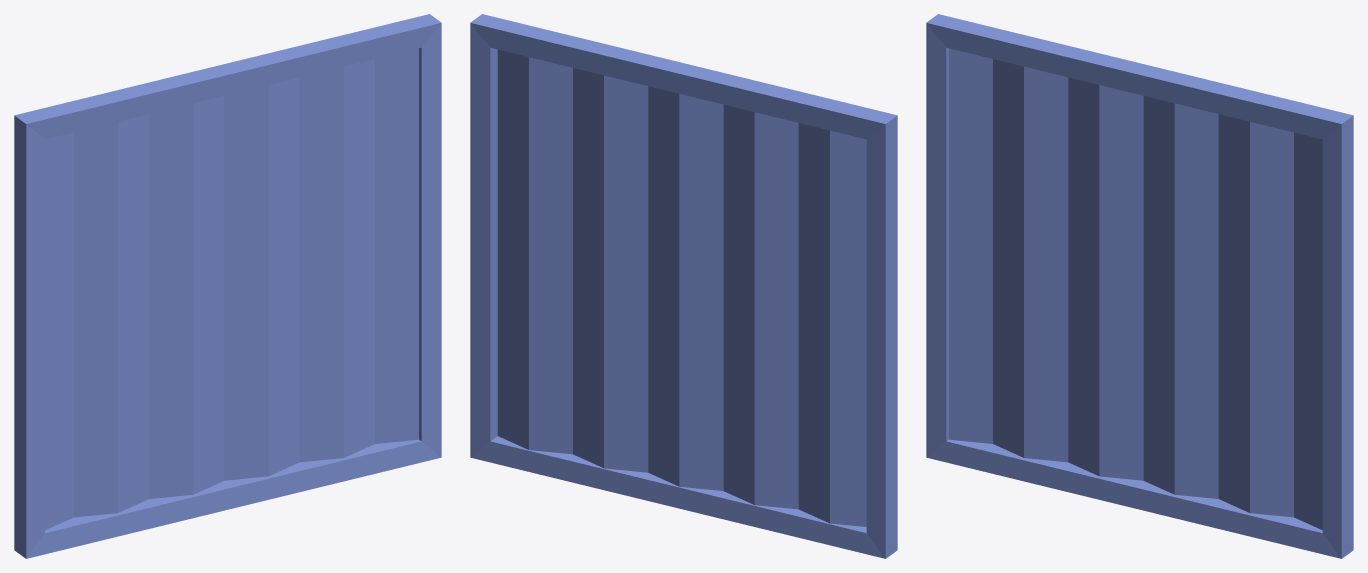
Rendered from MetalWall.fbx.
The picture shows the model from 3 angles, left to right: view 1: azimuth 30°, elevation 25°; view 2: azimuth 150°, elevation 25°; view 3: azimuth 330°, elevation 25°; orthographic projection.
Parts seen in each view (by area): view 1: MetalWall; view 2: MetalWall; view 3: MetalWall.
Part boxes in pixels (bbox=[...]): MetalWall: bbox=[14, 14, 441, 558]; MetalWall: bbox=[470, 14, 897, 558]; MetalWall: bbox=[926, 14, 1353, 558].
Bounding box in the file's own units: 2 × 0.1 × 2.
